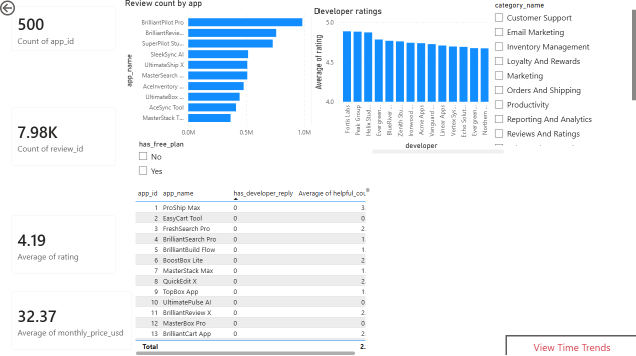

What the dashboard file says about the page in this screenshot:
{"tool":"powerbi","page":{"name":"Page 1","canvas":[1280,720],"ordinal":0},"visuals":[{"type":"cardVisual","fields":{"Data":["Count(apps.app_id)"]},"box":[10.2,0,243.5,123.7],"z":0},{"type":"cardVisual","fields":{"Data":["Count(reviews.review_id)"]},"box":[10,202,244,150],"z":1000},{"type":"cardVisual","fields":{"Data":["Avg(reviews.rating)"]},"box":[10,417,244,150],"z":2000},{"type":"cardVisual","fields":{"Data":["Avg(apps.monthly_price_usd)"]},"box":[10.2,569.9,276.7,150.4],"z":3000},{"type":"barChart","fields":{"Category":["apps.category_name"],"Y":["Avg(reviews.rating)"]},"box":[250,0,390,300],"z":4000},{"type":"clusteredColumnChart","fields":{"Category":["apps.developer"],"Y":["Avg(reviews.rating)"]},"box":[628,16,388,300],"z":5000},{"type":"slicer","fields":{"Values":["apps.has_free_plan"]},"box":[270,278,478,96],"z":6000},{"type":"slicer","fields":{"Values":["apps.category_name"]},"box":[980,0,300,300],"z":7000},{"type":"actionButton","box":[1014,674,266,46],"z":8000},{"type":"stackedAreaChart","fields":{"Y":["Avg(reviews.rating)"],"Category":["apps.launch_date.Variation.Date Hierarchy.Month"]},"box":[270,374,1010,254],"z":9000}]}

Visuals, with their boxes in screenshot pixels (x1, y1, x2, y2), scaled from the page's 1280x720 canvas onto the 636x356 screenshot:
cardVisual - Count(apps.app_id): detection(5, 0, 126, 61)
cardVisual - Count(reviews.review_id): detection(5, 100, 126, 174)
cardVisual - Avg(reviews.rating): detection(5, 206, 126, 280)
cardVisual - Avg(apps.monthly_price_usd): detection(5, 282, 143, 355)
barChart - apps.category_name x Avg(reviews.rating): detection(124, 0, 318, 148)
clusteredColumnChart - apps.developer x Avg(reviews.rating): detection(312, 8, 505, 156)
slicer - apps.has_free_plan: detection(134, 137, 372, 185)
slicer - apps.category_name: detection(487, 0, 635, 148)
actionButton: detection(504, 333, 635, 355)
stackedAreaChart - Avg(reviews.rating) x apps.launch_date.Variation.Date Hierarchy.Month: detection(134, 185, 635, 311)
